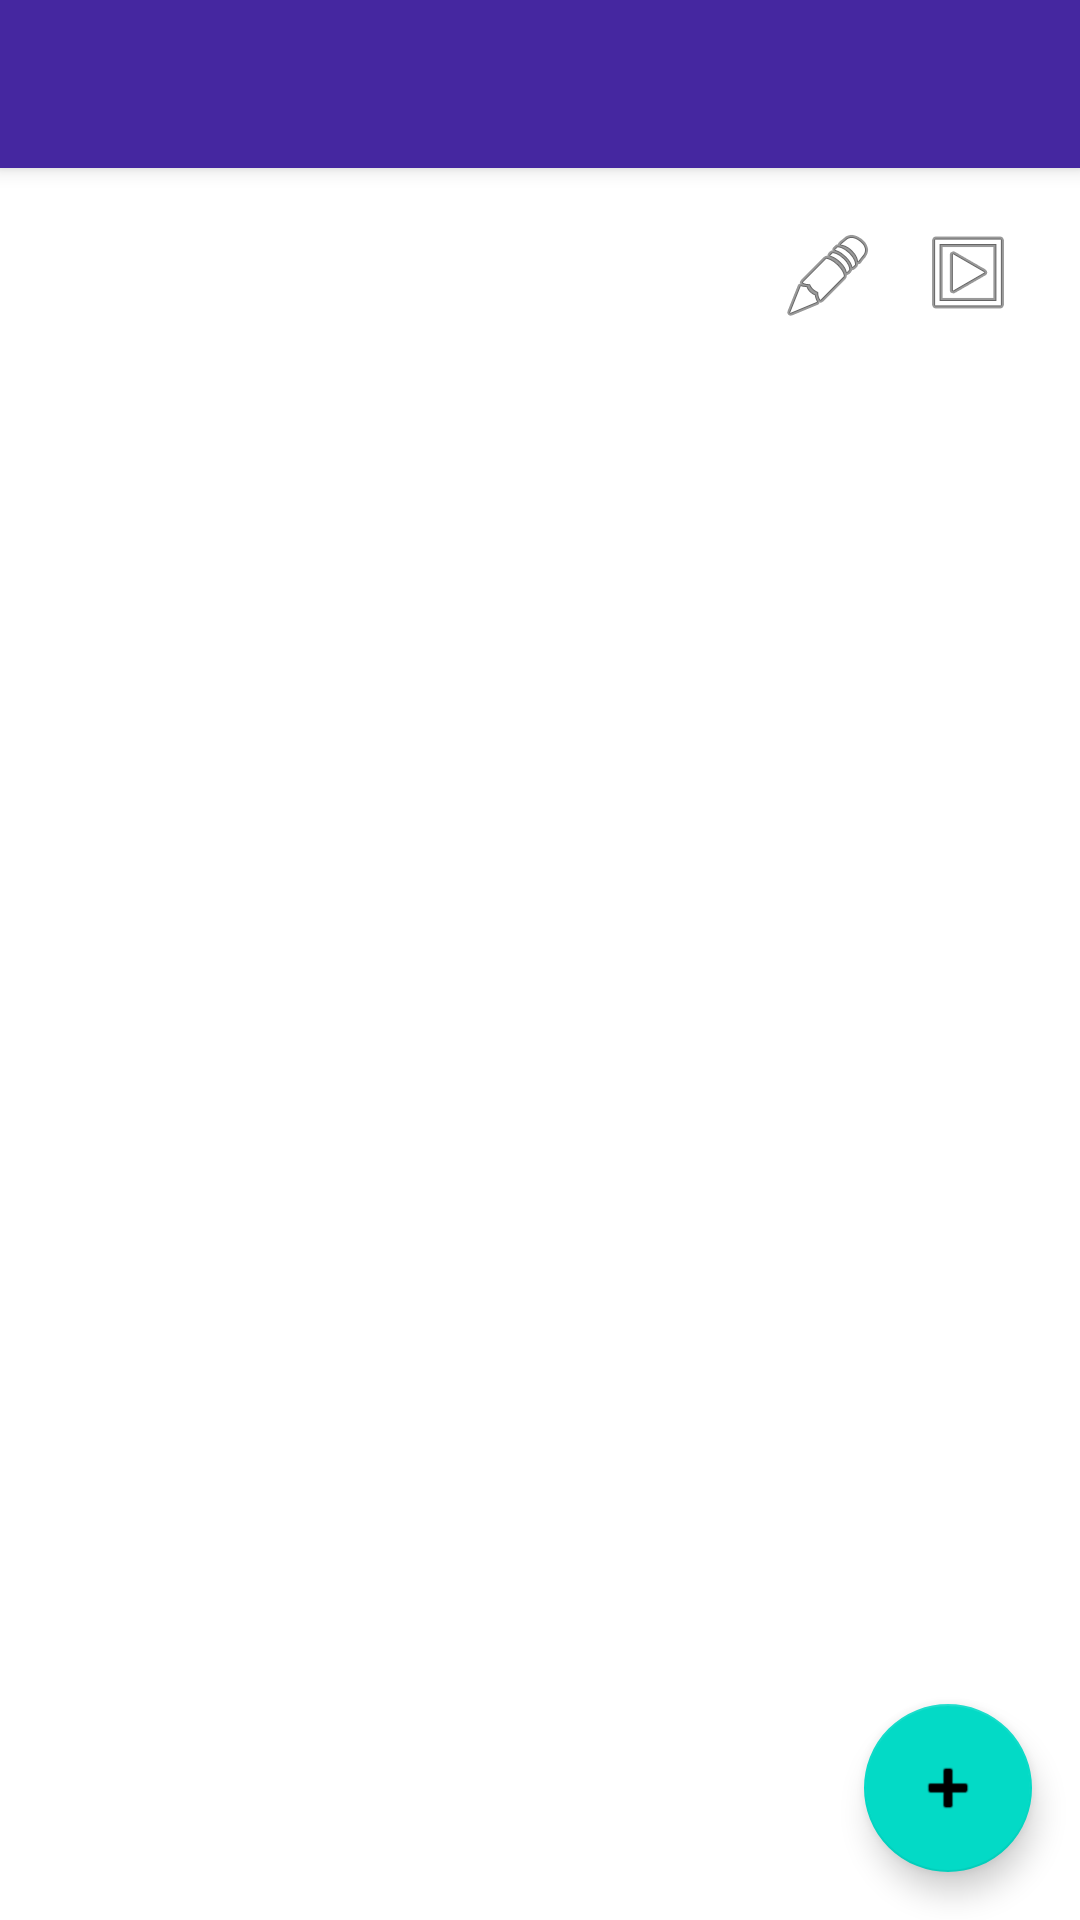

Named icons in this screenshot (1080x1920) and their bounding boxes, bbox=(x1, y1, x2, y2):
Add photo: bbox=(864, 1704, 1032, 1872)
Edit album name: bbox=(787, 235, 868, 316)
View slideshow: bbox=(932, 236, 1004, 309)
